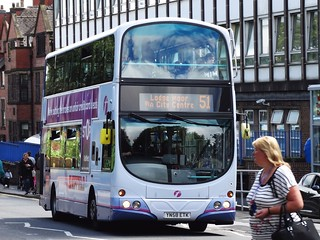bus: (39, 16, 235, 233)
